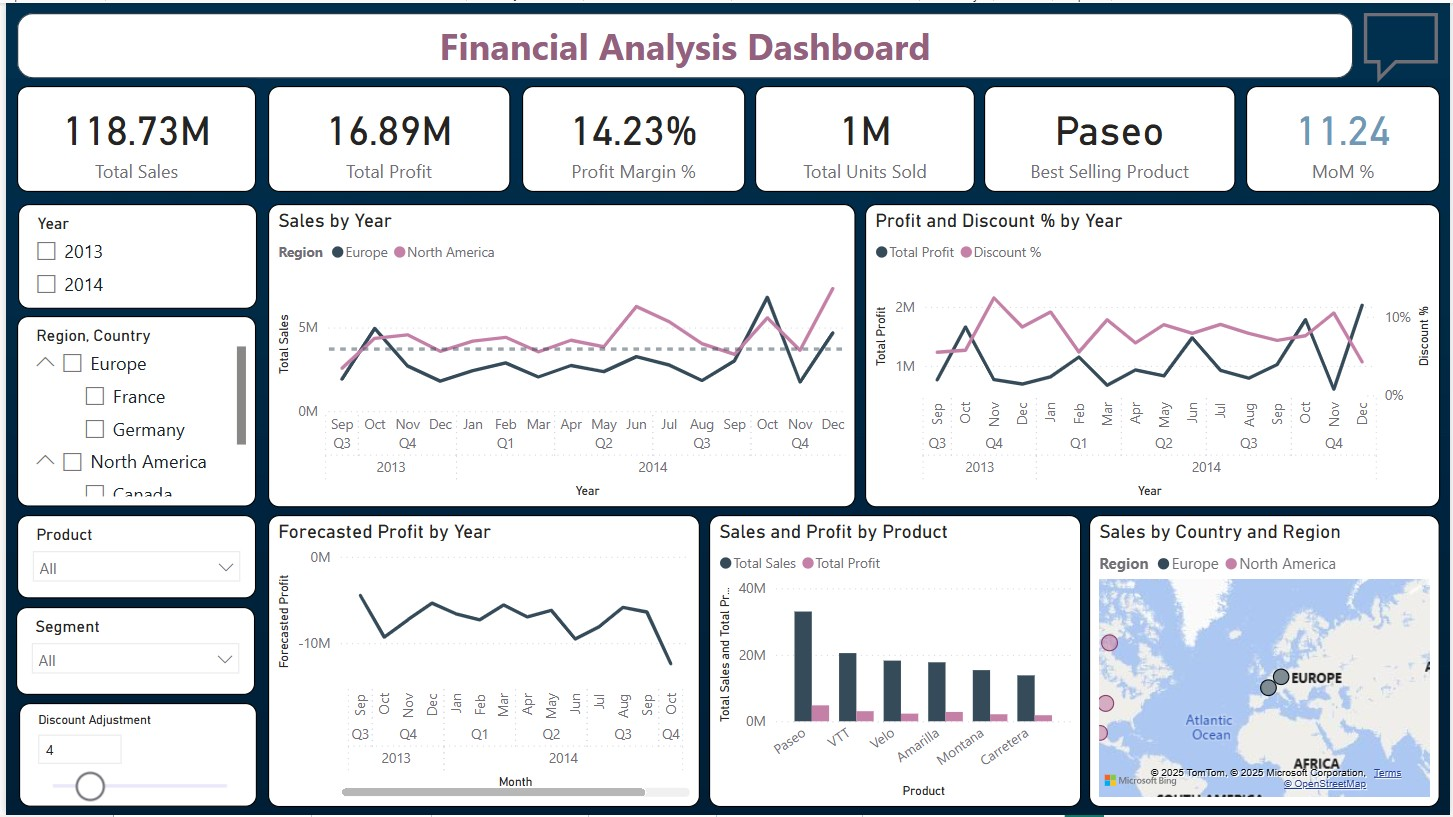

What the dashboard file says about the page in this screenshot:
{"tool":"powerbi","page":{"name":"Financial Analysis Dashboard","canvas":[1280,720],"ordinal":0},"visuals":[{"type":"shape","box":[9.7,8.4,1184.7,57.9],"z":0},{"type":"actionButton","box":[1196.8,0,83.2,79.6],"z":1000},{"type":"card","fields":{"Values":["FinanceData.Total Sales"]},"box":[9.8,73.6,211.9,94],"z":2000},{"type":"card","fields":{"Values":["FinanceData.Profit Margin %"]},"box":[457.5,73.6,197.7,94],"z":3000},{"type":"card","fields":{"Values":["FinanceData.Total Units Sold"]},"box":[664.1,73.6,195.1,94],"z":4000},{"type":"lineChart","title":"Profit and Discount % by Year","fields":{"Y":["FinanceData.Total Profit"],"Category":["Dates.Year Hierarchy.Year","Dates.Year Hierarchy.Quarter","Dates.Year Hierarchy.Month"],"Y2":["FinanceData.Discount %"]},"box":[761.7,178.2,509.9,268.7],"z":5000},{"type":"card","fields":{"Values":["FinanceData.Best Selling Product"]},"box":[867.2,73.6,222.6,94],"z":6000},{"type":"card","fields":{"Values":["FinanceData.MoM %"]},"box":[1099.5,73.6,172,94],"z":7000},{"type":"lineChart","title":"Sales by Year","fields":{"Y":["FinanceData.Total Sales"],"Category":["Dates.Year Hierarchy.Year","Dates.Year Hierarchy.Quarter","Dates.Year Hierarchy.Month"],"Series":["FinanceData.Region"]},"box":[232.3,178.2,521.4,268.7],"z":8000},{"type":"clusteredColumnChart","title":"Sales and Profit by Product","fields":{"Category":["FinanceData.Product"],"Y":["FinanceData.Total Sales","FinanceData.Total Profit"]},"box":[623.3,454,329.9,258.9],"z":9000},{"type":"slicer","fields":{"Values":["Dates.Year"]},"box":[10.6,178.2,211.9,93.1],"z":10000},{"type":"slicer","fields":{"Values":["FinanceData.Region","FinanceData.Country"]},"box":[9.8,277.5,211.9,169.4],"z":11000},{"type":"map","title":"Sales by Country and Region","fields":{"Series":["FinanceData.Region"],"Category":["FinanceData.Country"],"Size":["FinanceData.Total Sales"]},"box":[960.3,454,311.2,258.9],"z":12000},{"type":"slicer","fields":{"Values":["FinanceData.Product"]},"box":[9.8,454,211.9,74.5],"z":13000},{"type":"slicer","fields":{"Values":["FinanceData.Segment"]},"box":[8.9,535.6,211.9,78],"z":14000},{"type":"card","fields":{"Values":["FinanceData.Total Profit"]},"box":[232.3,73.6,214.6,94],"z":15000},{"type":"lineChart","title":"Forecasted Profit by Year","fields":{"Y":["FinanceData.Forecasted Profit"],"Category":["Dates.Year Hierarchy.Year","Dates.Year Hierarchy.Quarter","Dates.Year Hierarchy.Month"]},"box":[232.3,454,383.1,258.9],"z":15001},{"type":"slicer","fields":{"Values":["Discount Adjustment.Discount Adjustment"]},"box":[11.5,620.7,211,92.2],"z":15002}]}

Visuals, with their boxes in screenshot pixels (x1, y1, x2, y2), scaled from the page's 1280x720 canvas onto the 1453x817 screenshot:
shape: [left=11, top=10, right=1356, bottom=75]
actionButton: [left=1359, top=0, right=1452, bottom=90]
card - FinanceData.Total Sales: [left=11, top=84, right=252, bottom=190]
card - FinanceData.Profit Margin %: [left=519, top=84, right=744, bottom=190]
card - FinanceData.Total Units Sold: [left=754, top=84, right=975, bottom=190]
"Profit and Discount % by Year" lineChart: [left=865, top=202, right=1443, bottom=507]
card - FinanceData.Best Selling Product: [left=984, top=84, right=1237, bottom=190]
card - FinanceData.MoM %: [left=1248, top=84, right=1443, bottom=190]
"Sales by Year" lineChart: [left=264, top=202, right=856, bottom=507]
"Sales and Profit by Product" clusteredColumnChart: [left=708, top=515, right=1082, bottom=809]
slicer - Dates.Year: [left=12, top=202, right=253, bottom=308]
slicer - FinanceData.Region x FinanceData.Country: [left=11, top=315, right=252, bottom=507]
"Sales by Country and Region" map: [left=1090, top=515, right=1443, bottom=809]
slicer - FinanceData.Product: [left=11, top=515, right=252, bottom=600]
slicer - FinanceData.Segment: [left=10, top=608, right=251, bottom=696]
card - FinanceData.Total Profit: [left=264, top=84, right=507, bottom=190]
"Forecasted Profit by Year" lineChart: [left=264, top=515, right=699, bottom=809]
slicer - Discount Adjustment.Discount Adjustment: [left=13, top=704, right=253, bottom=809]
